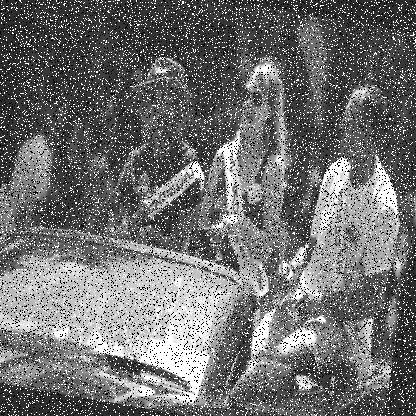Car: (0, 193, 393, 415)
